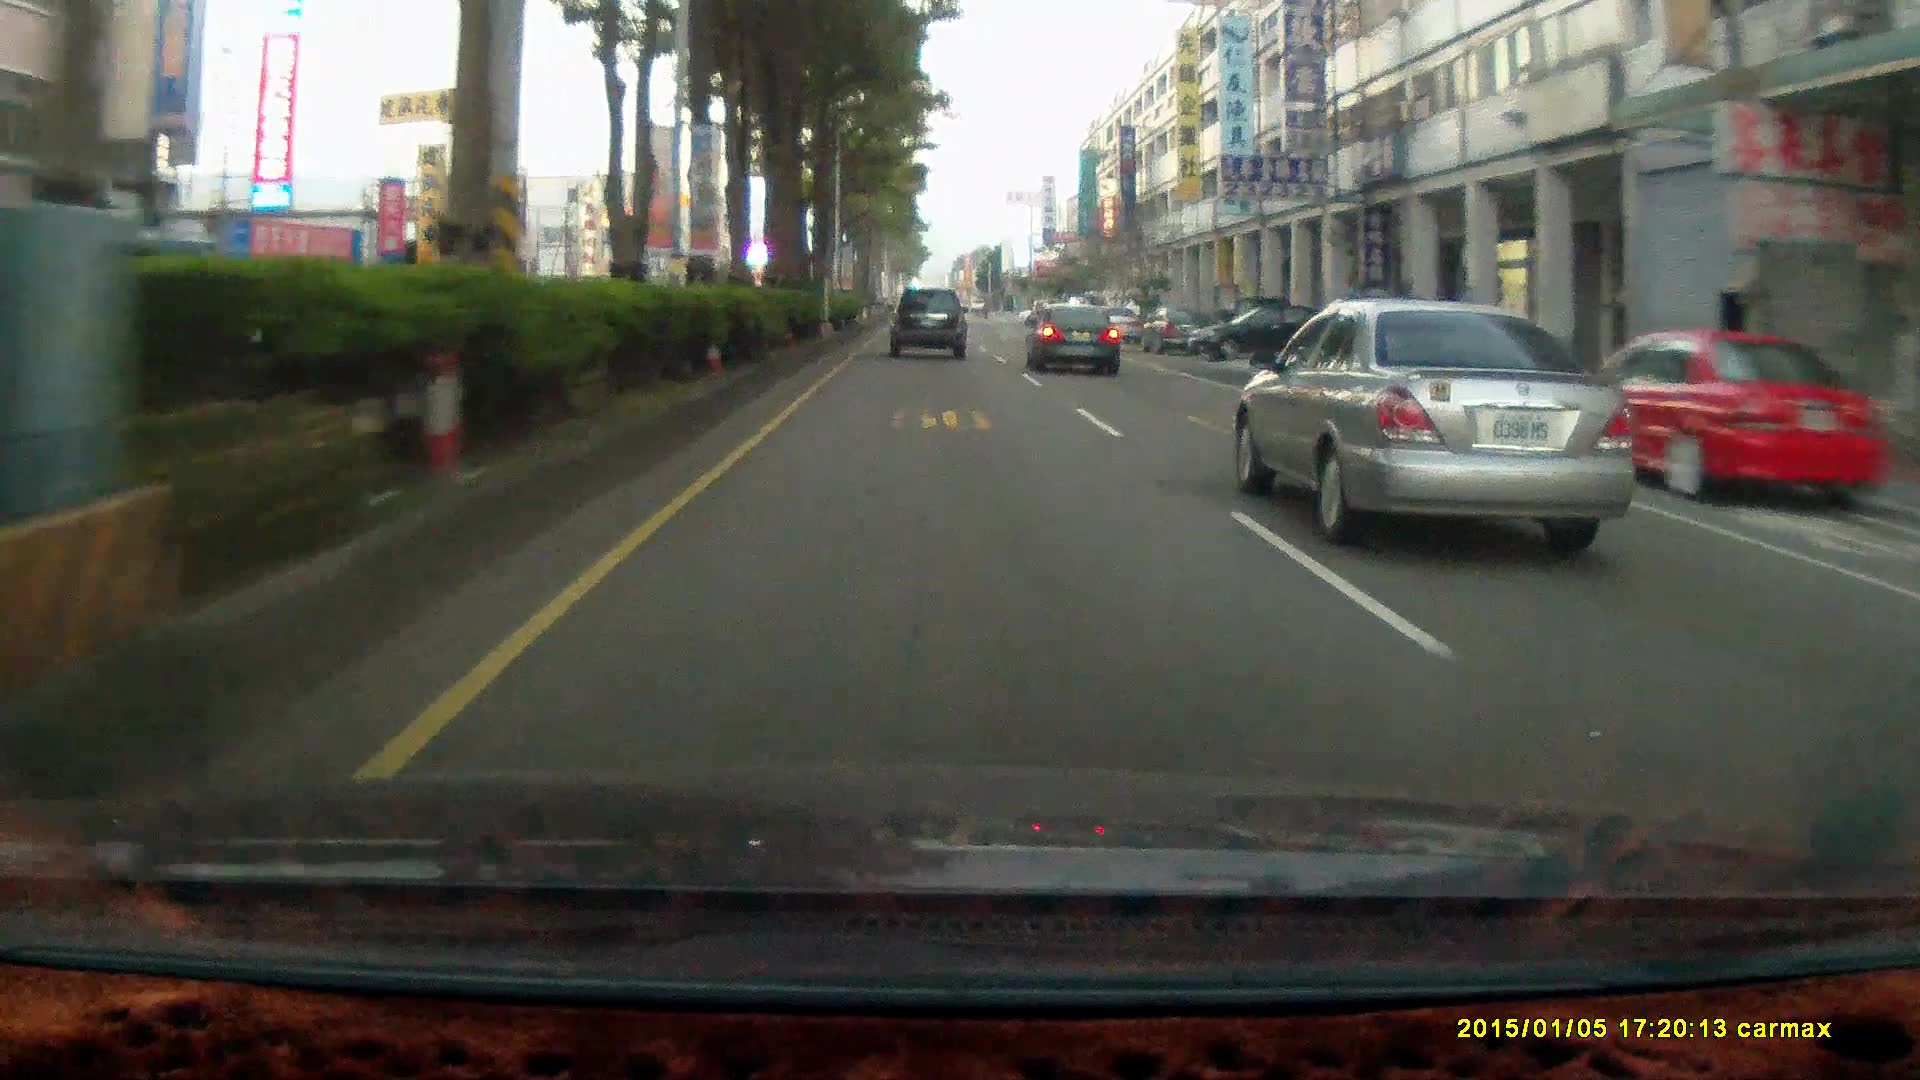vehicle: (1226, 286, 1658, 541), (1556, 327, 1882, 506), (1578, 324, 1880, 509), (1185, 302, 1340, 361), (1025, 305, 1124, 380), (1025, 301, 1120, 376), (887, 286, 971, 363), (886, 286, 969, 357), (1135, 305, 1209, 355)
